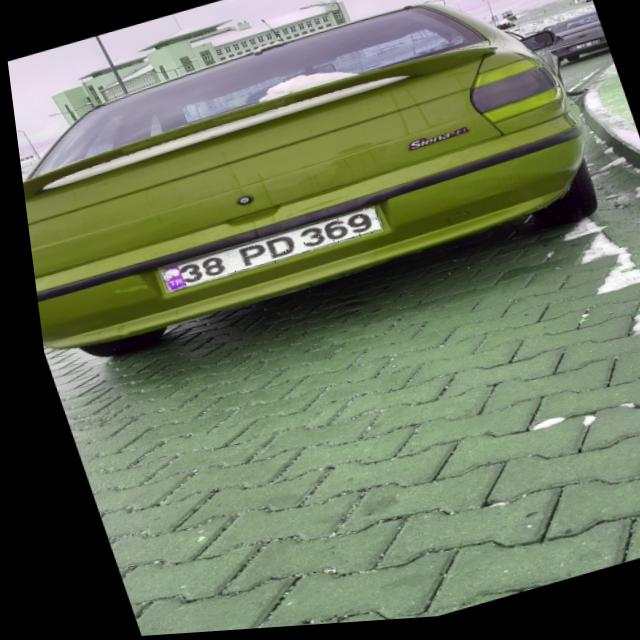license_plate: (145, 209, 381, 295)
